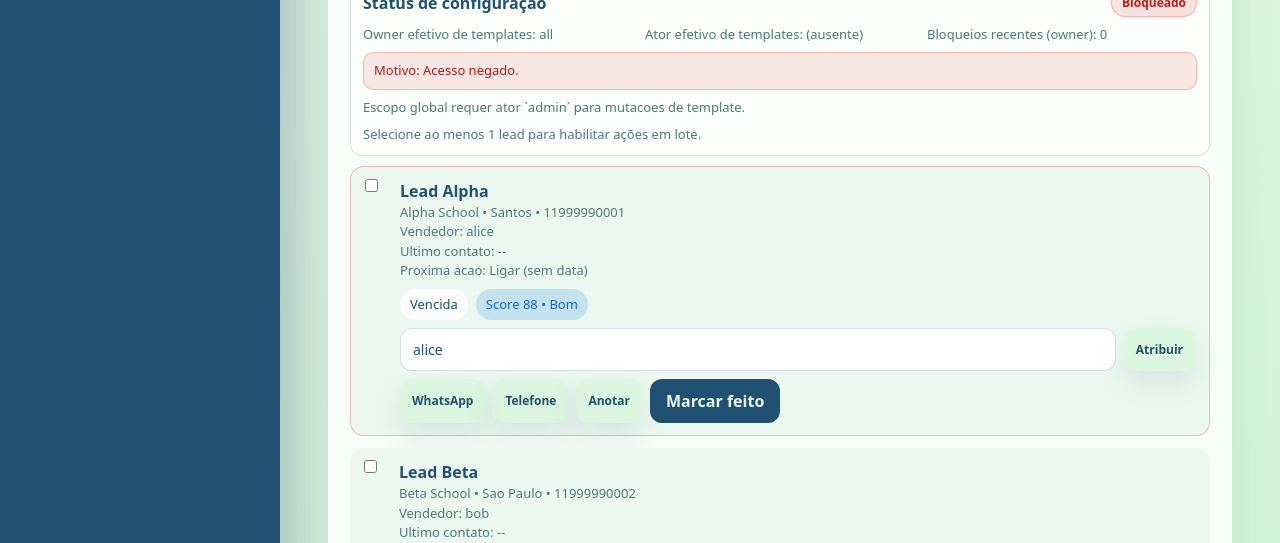
Scenario: SDR page › keeps non-updated leads selected on partial batch assign response
(page scrolled)
Expected: the text "Lead Alpha" is shown, x1=400 y1=180 x2=489 y2=202
Expected: the text "Lead Beta" is shown, x1=399 y1=461 x2=478 y2=483
Click the checkbox named "Selecionar lead 1".
click(372, 185)  # box x1=365 y1=178 x2=378 y2=192
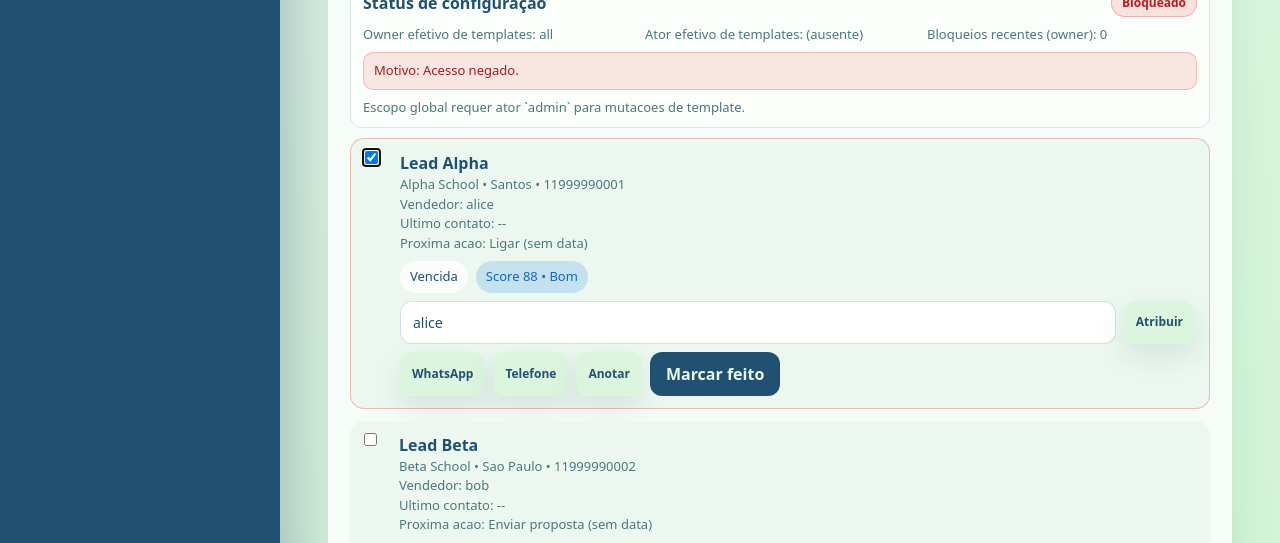
Click the checkbox named "Selecionar lead 2".
click(370, 439)  # box x1=364 y1=432 x2=377 y2=446
(page scrolled)
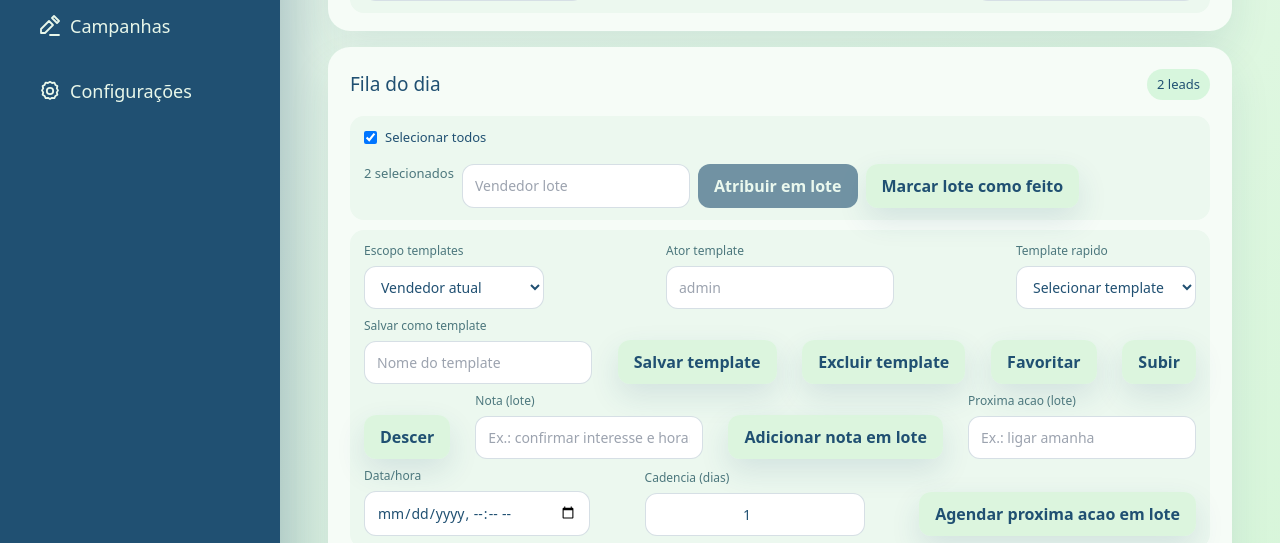
Type "danilo" into the field with placeholder "Vendedor lote".
click(576, 186); type("danilo")  # box x1=462 y1=164 x2=690 y2=208
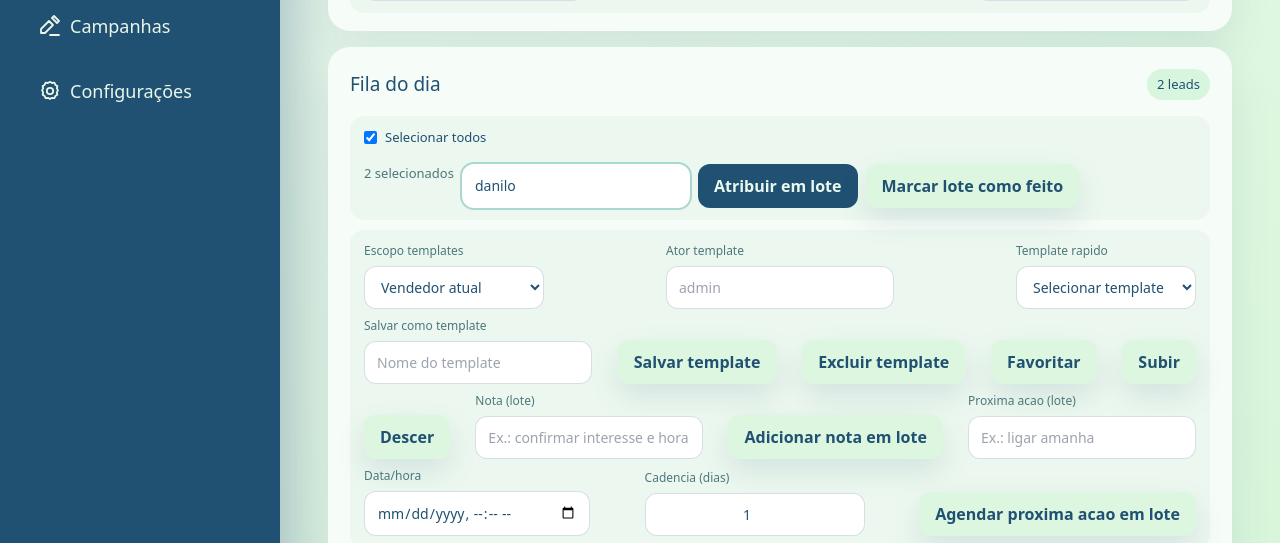
Click the button "Atribuir em lote".
click(778, 186)  # box x1=698 y1=164 x2=858 y2=208
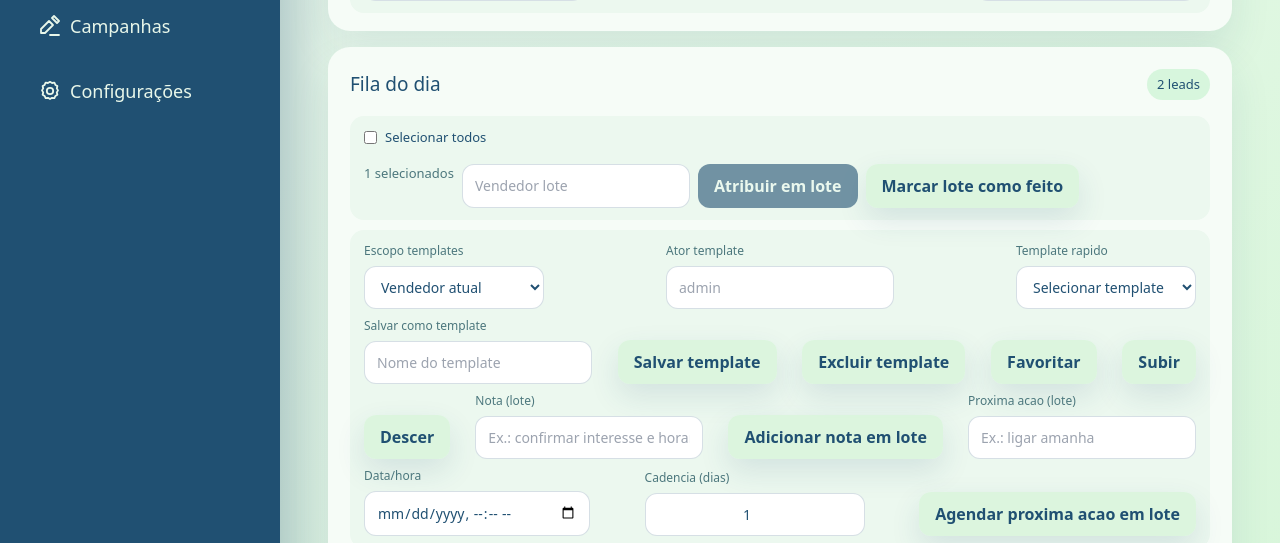
Expected: the text "1 selecionados" is shown, x1=364 y1=164 x2=454 y2=182
